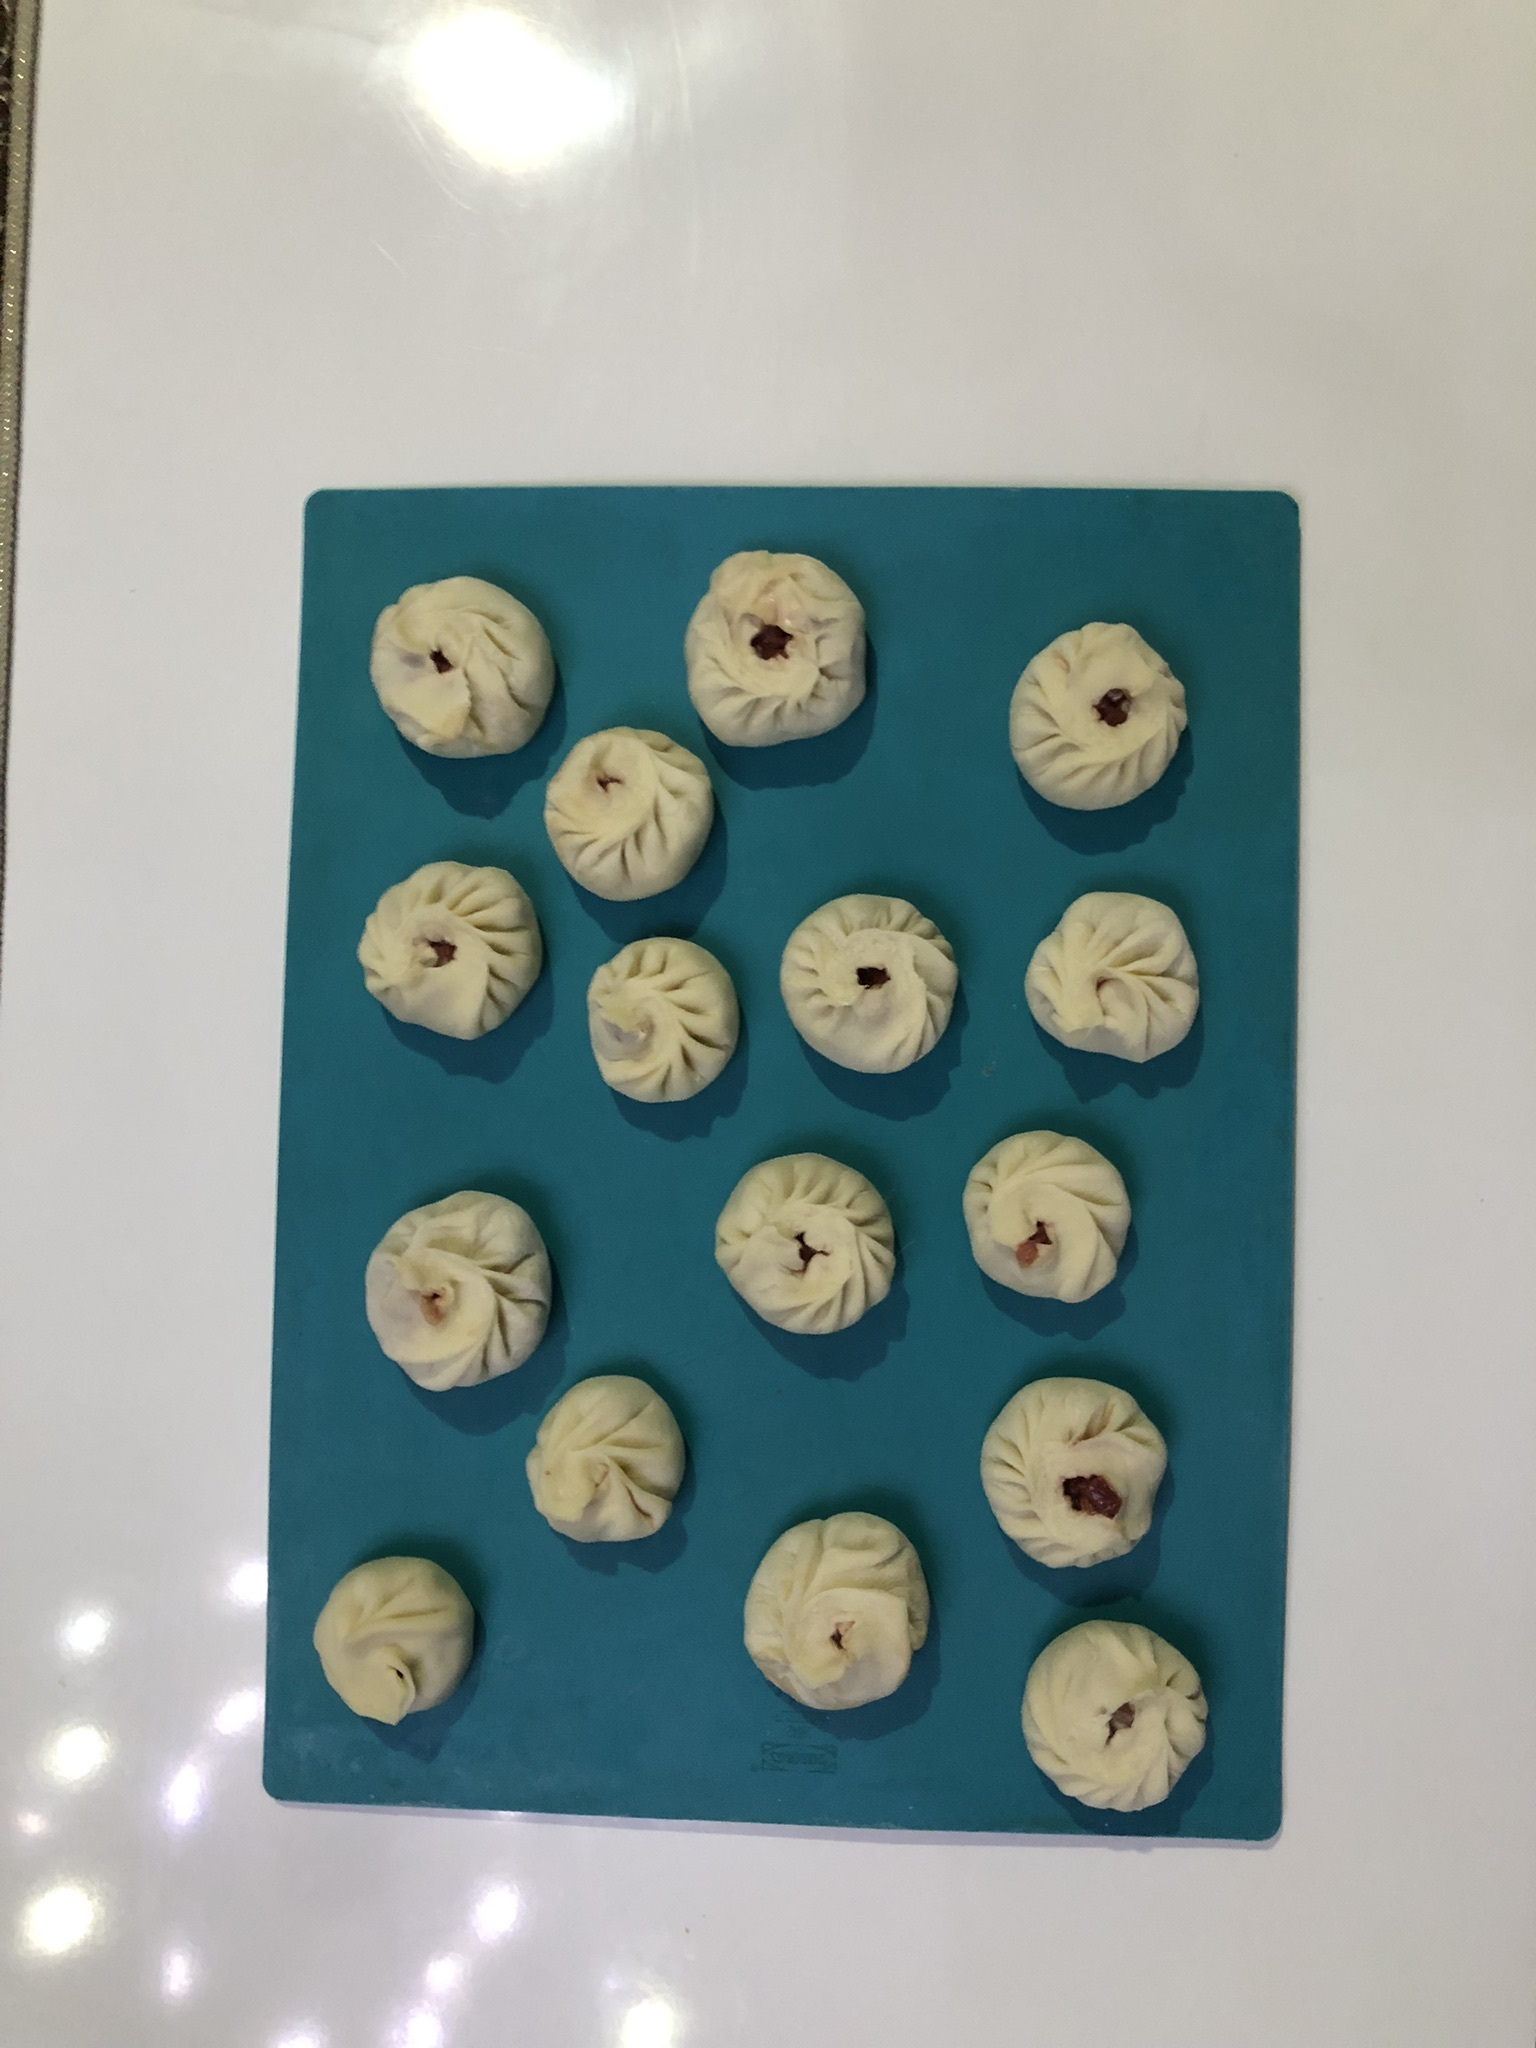buuz: (726, 1501, 949, 1737), (352, 1171, 565, 1400), (674, 539, 887, 755), (1010, 1609, 1220, 1829), (355, 564, 574, 768), (768, 877, 971, 1092), (707, 1143, 913, 1345), (970, 1367, 1171, 1574), (1004, 610, 1199, 819), (300, 1543, 507, 1735), (352, 851, 549, 1051), (950, 1119, 1152, 1314), (1013, 884, 1213, 1072), (532, 716, 723, 913), (523, 1359, 700, 1558), (579, 929, 749, 1114)
